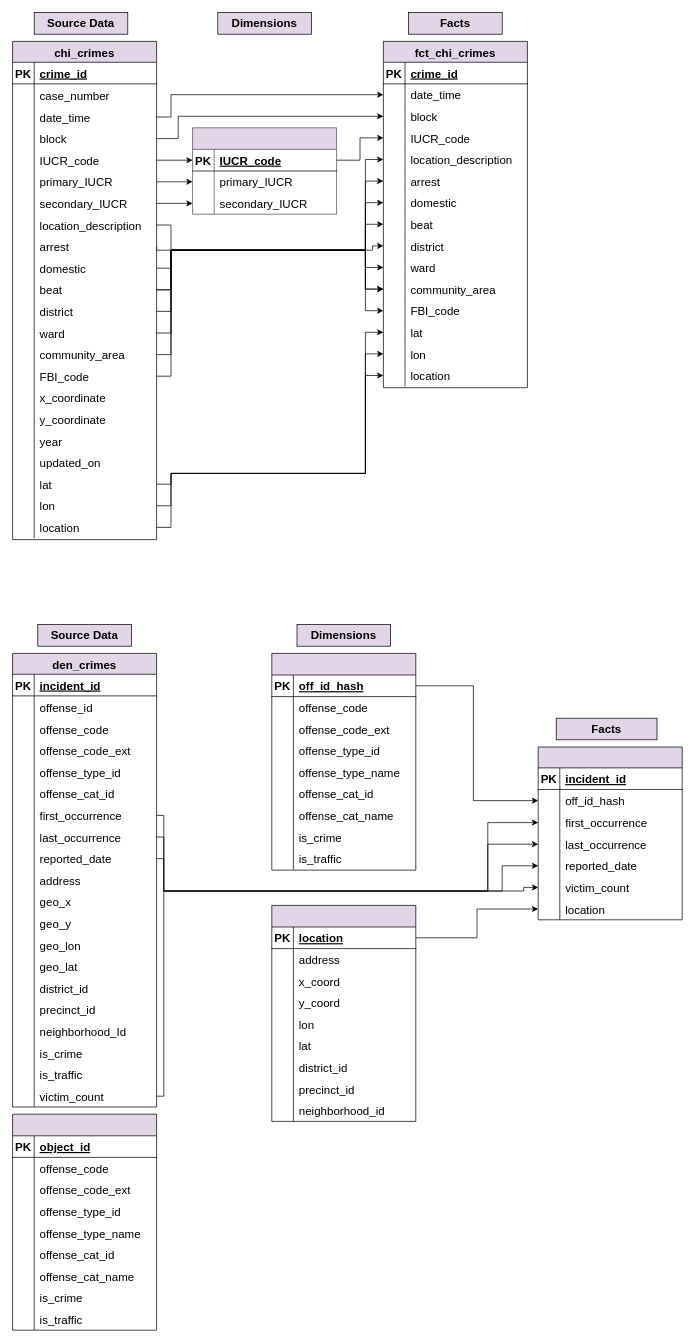
This 695x1343 diagram has some shape labels left out. The shapes that lost their labels are listed below. From the top down, each one's box as (x1, y1, x2, y2) in pixels, then its label:
(192, 127, 337, 214): dim_IUCR
(271, 653, 416, 870): dim_off_codes
(537, 746, 682, 920): fct_den_crimes
(271, 905, 416, 1121): dim_locations
(12, 1113, 157, 1330): off_codes
